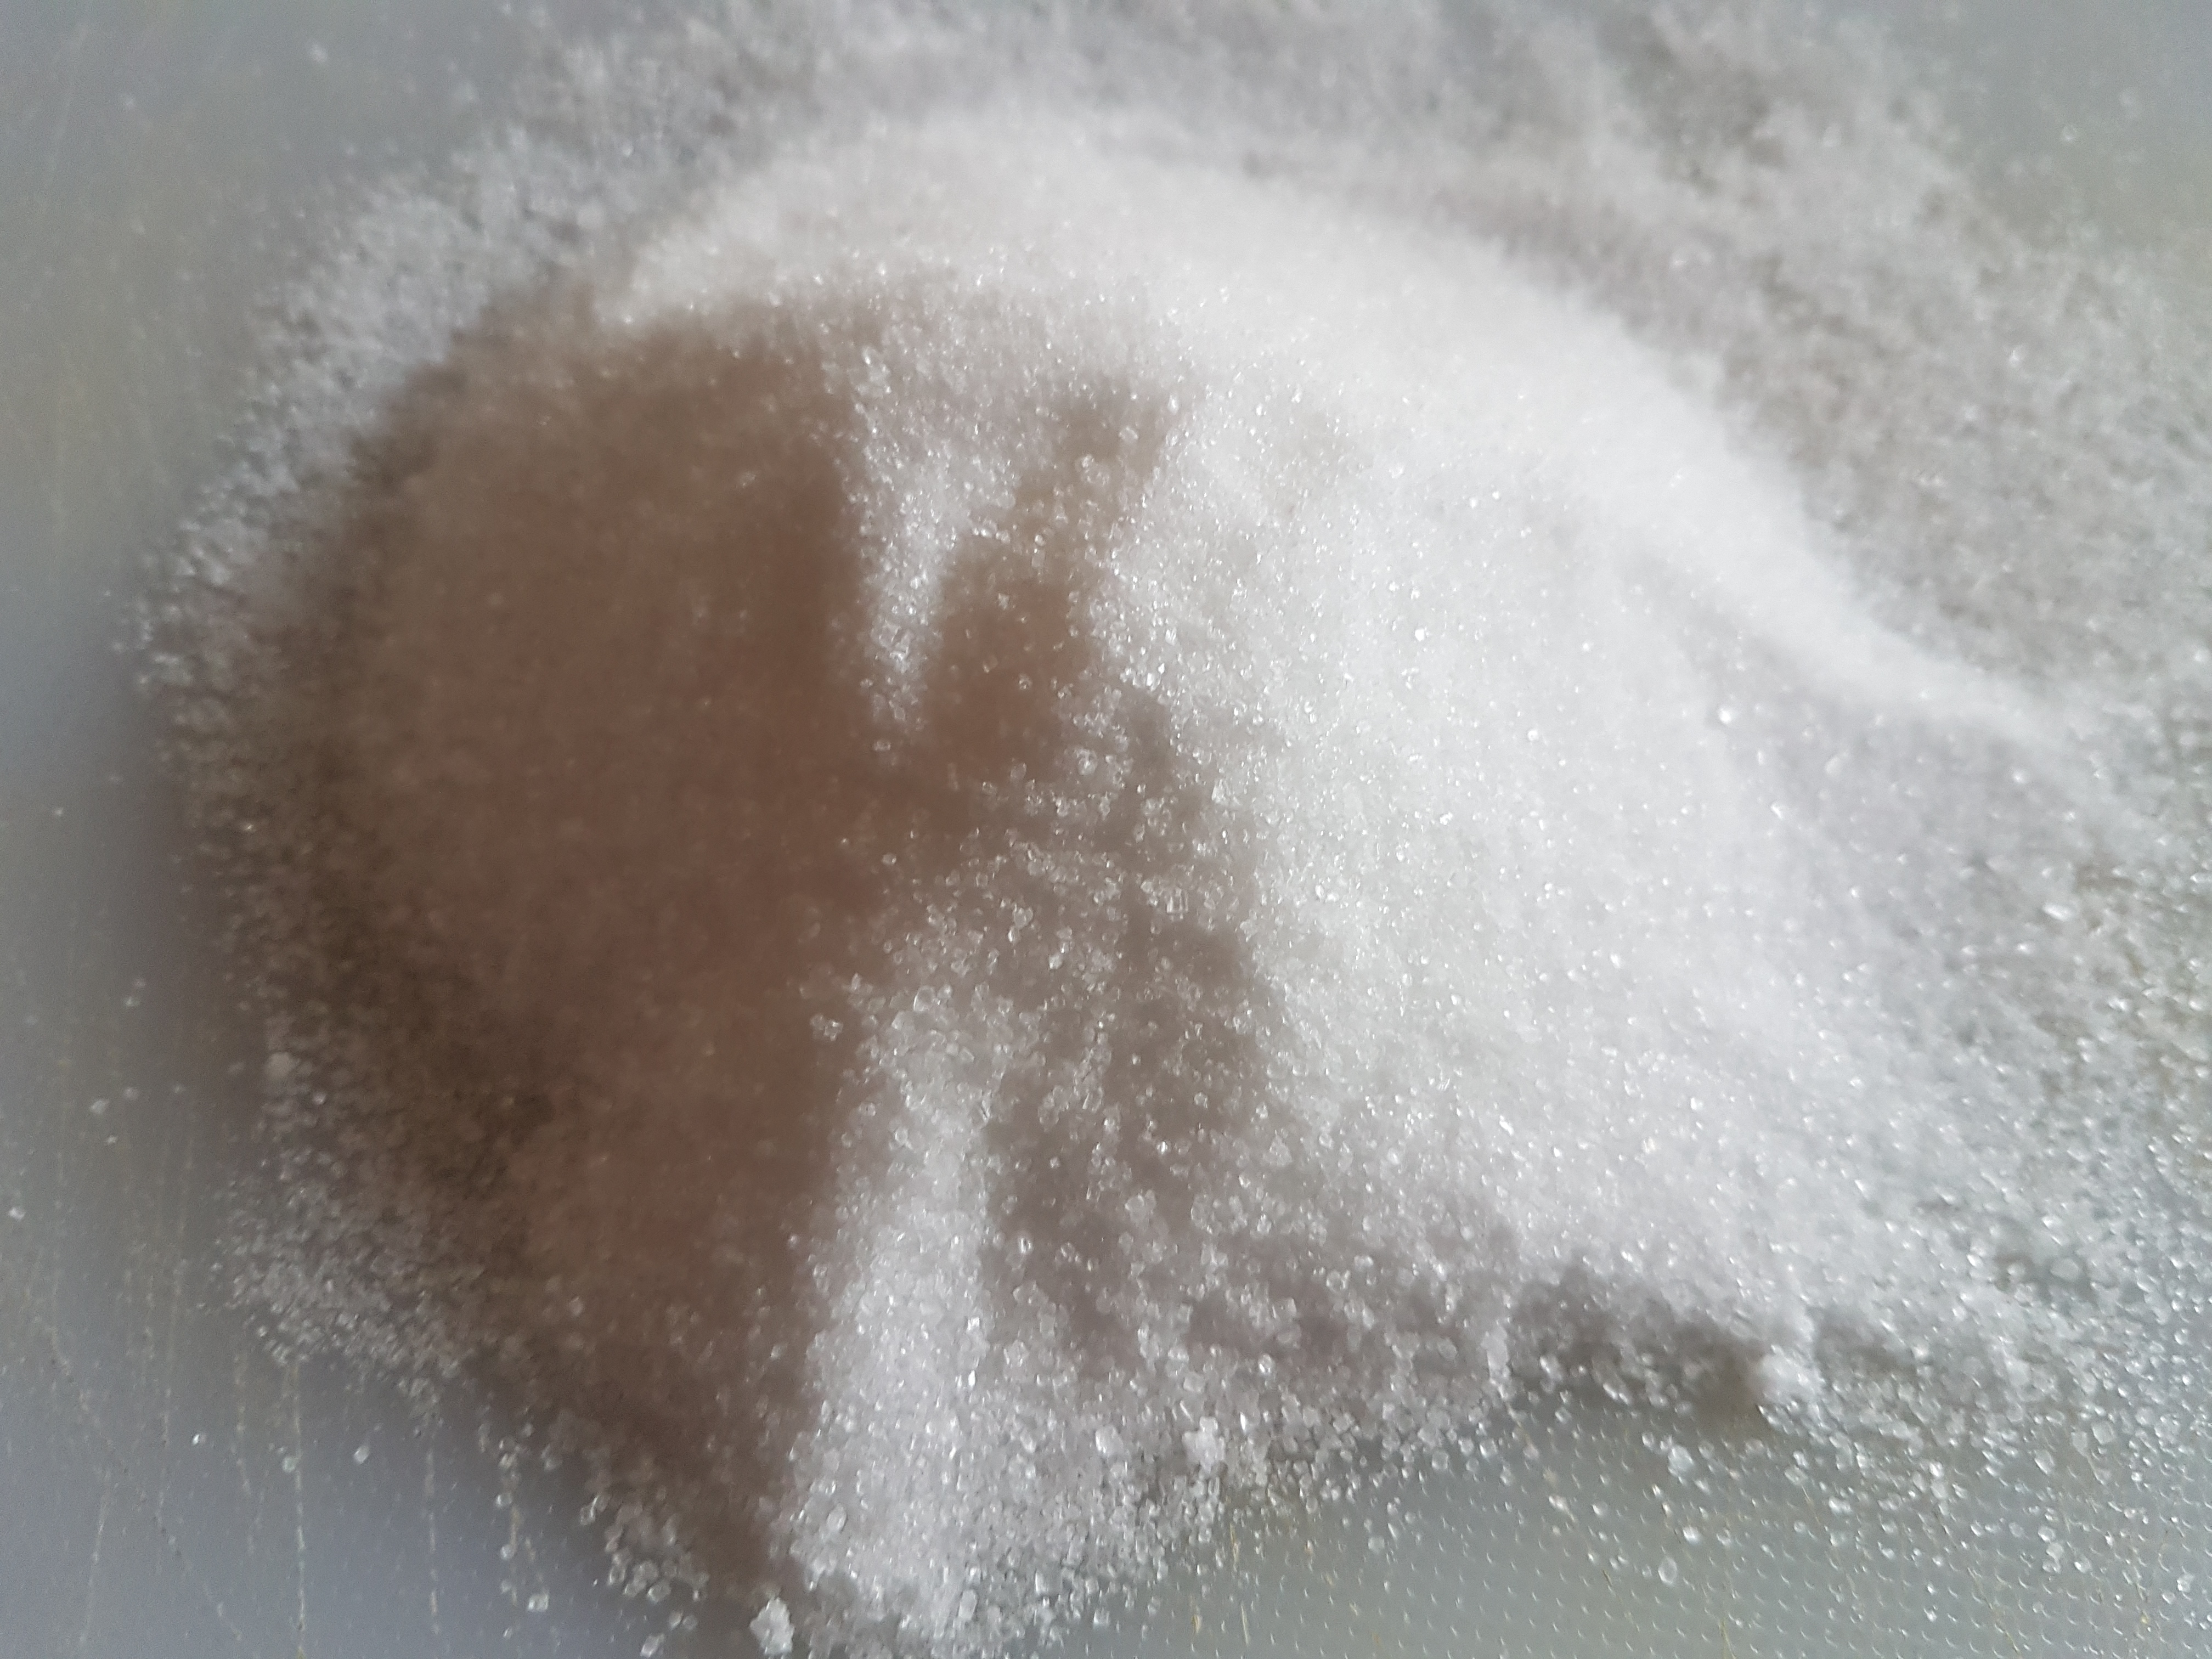Sugar: (146, 54, 2212, 1654)
